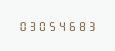eight: (77, 20, 86, 31)
five: (47, 20, 56, 31)
four: (57, 20, 66, 31)
six: (67, 20, 76, 31)
three: (27, 20, 36, 31), (87, 20, 96, 31)
zero: (17, 20, 26, 31), (37, 20, 46, 31)
